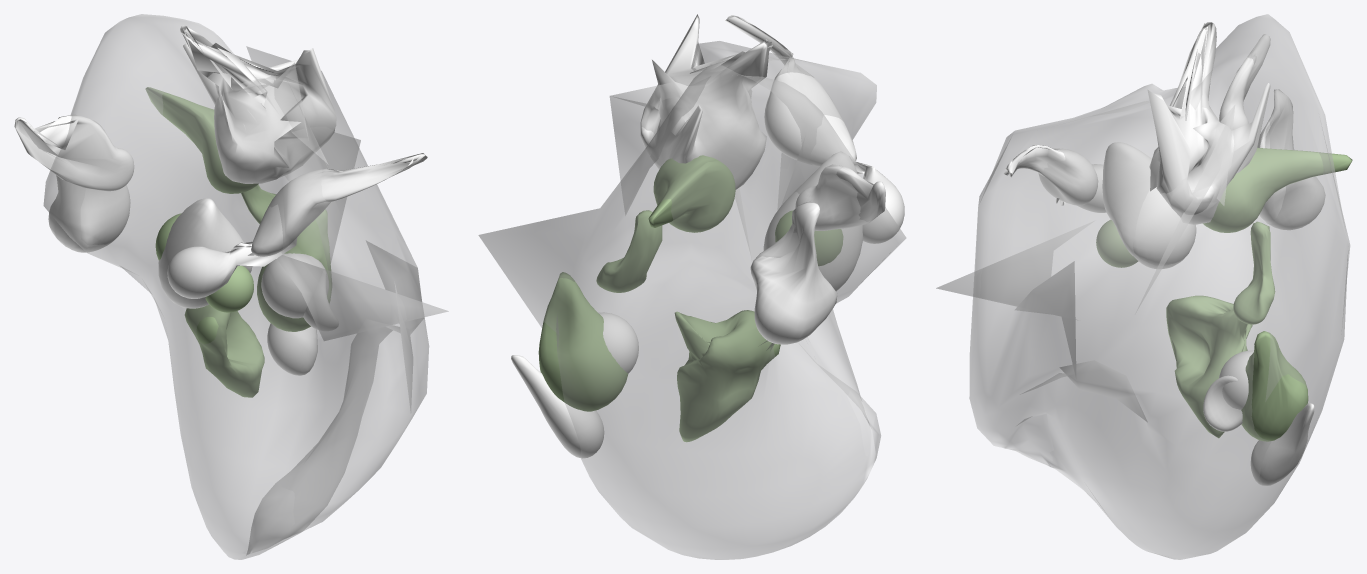
Rendered from three-blender.glb.
3 renders of one model, left to right at view 1: azimuth 30°, elevation 25°; view 2: azimuth 150°, elevation 25°; view 3: azimuth 270°, elevation 25°, orthographic. The views are drawn at different scales.
Visible parts, largest first — view 1: Sphere.015, Sphere.008, Sphere.012, Sphere.010, Sphere.014, Sphere.011, Sphere.001, Sphere, Sphere.009, Sphere.006, Sphere.005, Sphere.007 (+3 smaller); view 2: Sphere.015, Sphere.008, Sphere.014, Sphere.011, Sphere.005, Sphere.010, Sphere.009, Sphere.012, Sphere.007, Sphere.001, Sphere.013, Sphere (+2 smaller); view 3: Sphere.015, Sphere.008, Sphere.001, Sphere.014, Sphere.009, Sphere.005, Sphere.011, Sphere.010, Sphere.007, Sphere.013, Sphere.012, Sphere.004 (+3 smaller).
Part boxes in pixels (x1,y1,x2,y2): Sphere.015: [43, 14, 448, 559]; Sphere.008: [180, 25, 336, 183]; Sphere.012: [14, 114, 134, 191]; Sphere.010: [251, 153, 427, 256]; Sphere.014: [184, 304, 264, 397]; Sphere.011: [48, 175, 130, 252]; Sphere.001: [158, 198, 252, 308]; Sphere: [167, 237, 297, 298]; Sphere.009: [145, 87, 258, 193]; Sphere.006: [261, 253, 328, 318]; Sphere.005: [257, 209, 331, 331]; Sphere.007: [267, 323, 317, 375]; Sphere.015: [478, 41, 906, 559]; Sphere.008: [640, 14, 772, 189]; Sphere.014: [674, 310, 780, 442]; Sphere.011: [750, 201, 837, 344]; Sphere.005: [538, 272, 628, 411]; Sphere.010: [724, 15, 856, 166]; Sphere.009: [648, 155, 735, 232]; Sphere.012: [795, 164, 885, 230]; Sphere.007: [511, 355, 604, 458]; Sphere.001: [763, 151, 863, 291]; Sphere.013: [596, 210, 662, 292]; Sphere: [852, 161, 904, 243]; Sphere.015: [936, 14, 1350, 559]; Sphere.008: [1147, 22, 1270, 224]; Sphere.001: [1102, 142, 1196, 268]; Sphere.014: [1166, 295, 1252, 438]; Sphere.009: [1203, 147, 1352, 232]; Sphere.005: [1241, 331, 1308, 441]; Sphere.011: [1257, 89, 1325, 230]; Sphere.010: [1004, 145, 1098, 205]; Sphere.007: [1250, 403, 1314, 486]; Sphere.013: [1233, 221, 1275, 324]; Sphere.012: [1219, 34, 1270, 130]; Sphere.004: [1203, 375, 1242, 431].
Size of the model in its own units: 8.05 by 10.81 by 8.17.
